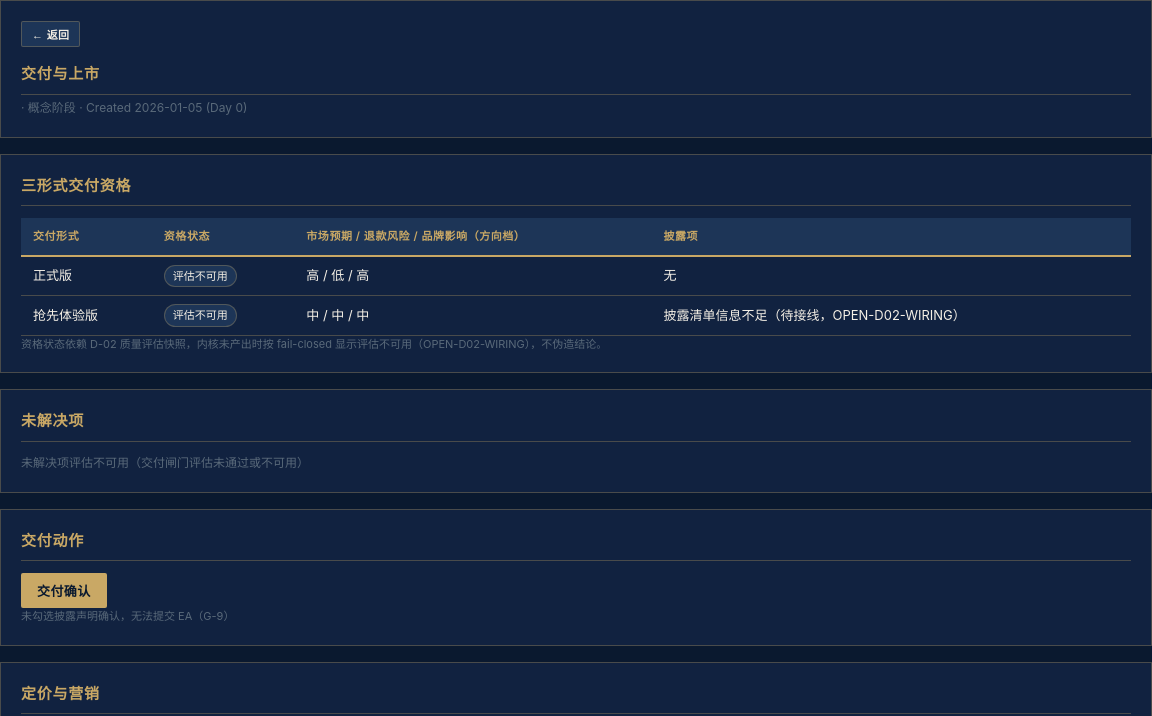
it: P-09 交付与上市页（批次 07B） › SUP-01 真点击 FAIL：真实字段缺失 → 生产求值 FAIL → 失败原因逐条可见、state 保持 READY_TO_DELIVER（R14）
Click the button with test id "deliver-submit-open" at coordinates (64, 590), box [21,573,107,608]
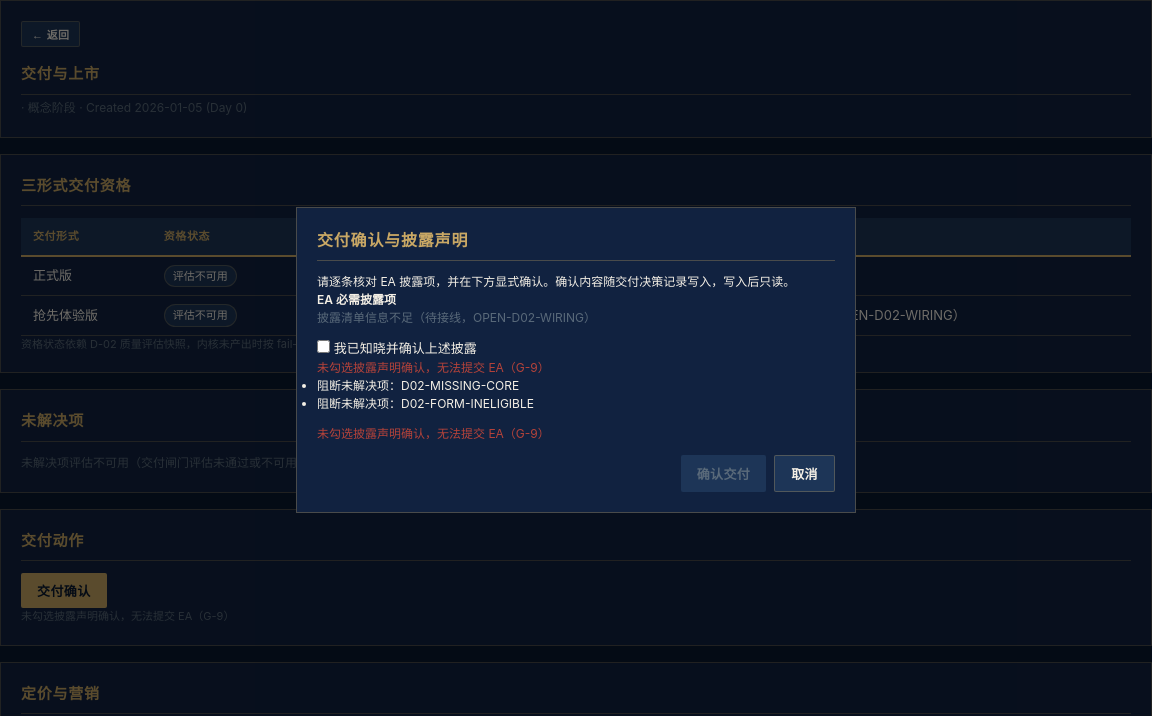
Click the checkbox with test id "deliver-disclosure-ack" at coordinates (324, 347), box [317,340,330,353]
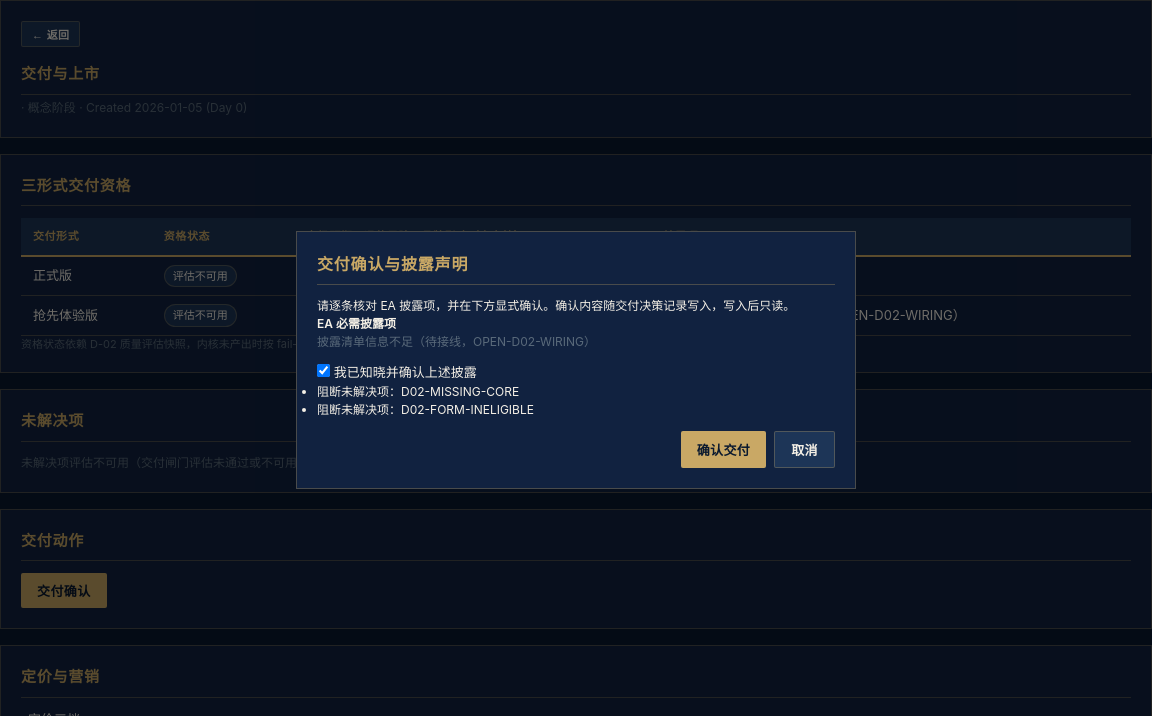
Result: the button with test id "deliver-submit-confirm" is enabled
Click the button with test id "deliver-submit-confirm" at coordinates (724, 449), box [681,431,766,468]
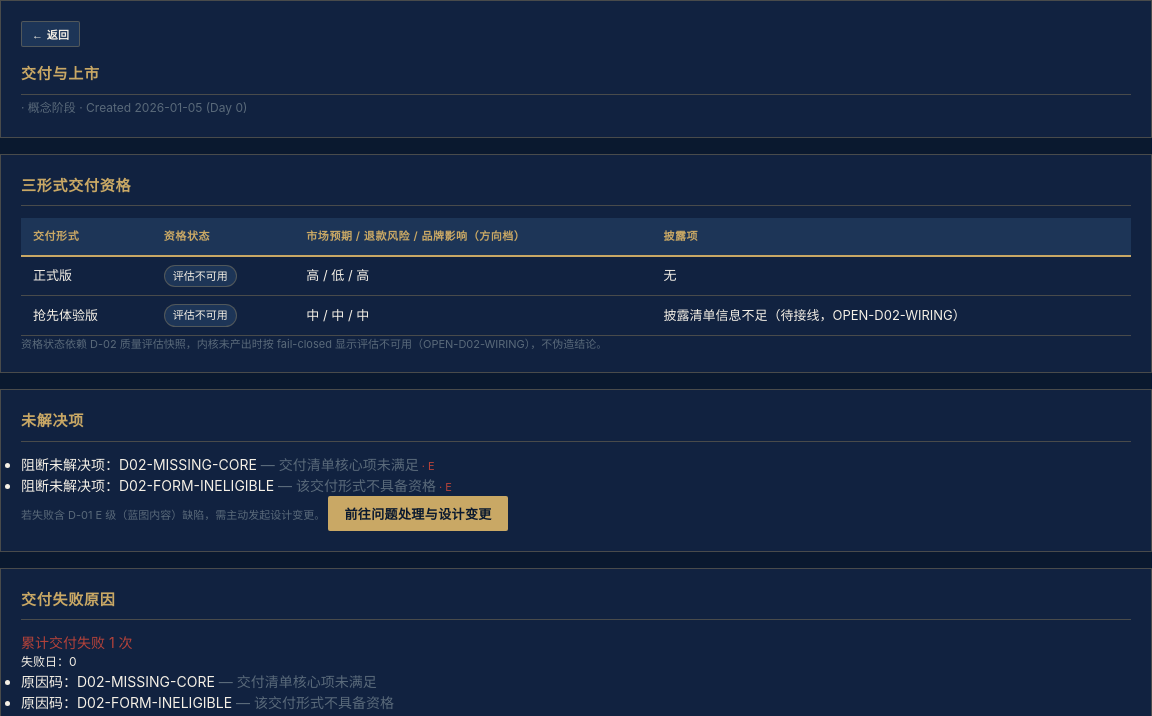
Result: the list item with test id "deliver-failure-reason-0" shows "D02-MISSING-CORE" at [21,673,215,690]
Result: the list item with test id "deliver-failure-reason-1" shows "D02-FORM-INELIGIBLE" at [21,694,232,711]
